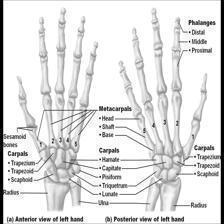Ladder: (65, 34, 164, 165)
